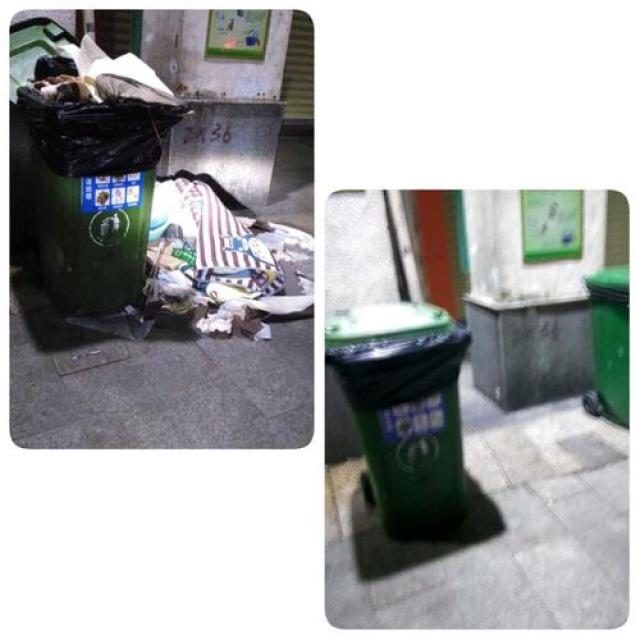garbage: (61, 173, 311, 339)
garbage_bin: (325, 301, 470, 530), (582, 265, 628, 427)
overflow: (15, 33, 187, 315)
